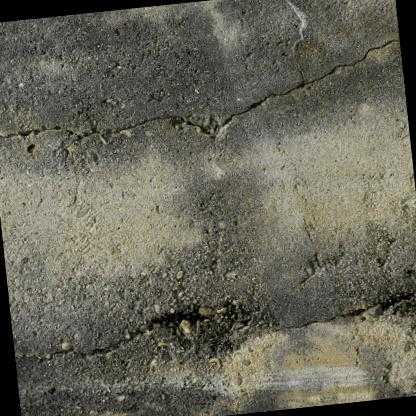crack: (0, 34, 400, 142)
